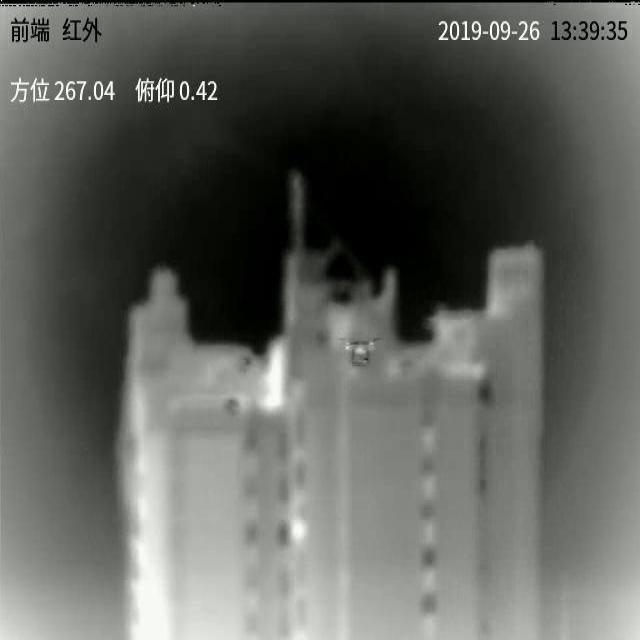drone: (339, 337, 384, 366)
